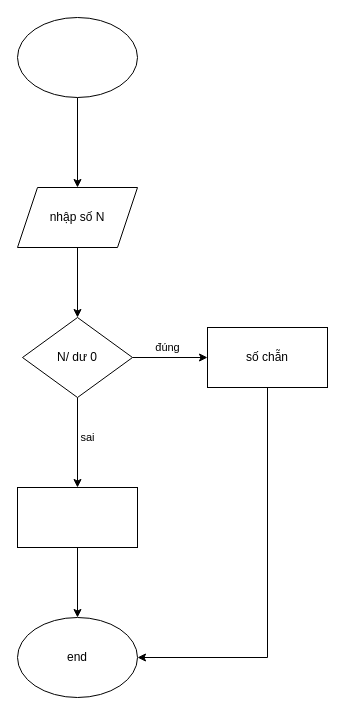
This 345x715 diagram has some shape labels left out. Here are the shapes that lost their labels. From the top down, the centre of each, then its label:
(x=77, y=57): start
(x=77, y=517): số lẻ
